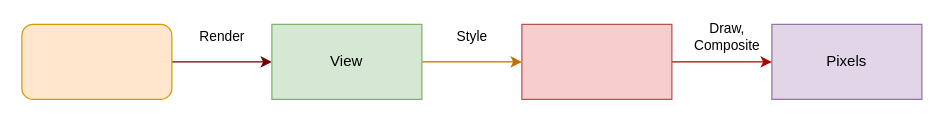
The diagram is 944 pixels wide and 123 high, and some of its shapes have lost their labels. The box of each missing label's shape, as (x1, y1, x2, y2) in pixels:
Scene: (521, 23, 672, 99)
View State: (21, 23, 172, 99)
